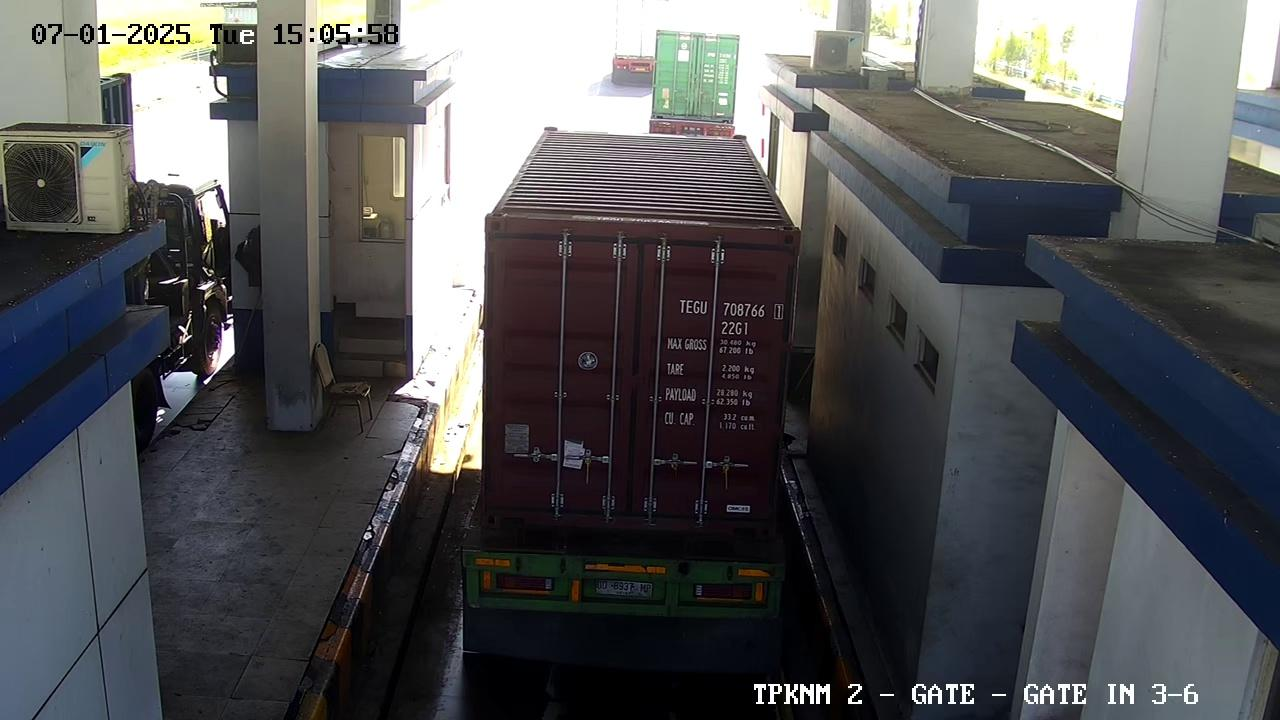Container_ID: (676, 294, 788, 325)
plate_number: (581, 572, 664, 605)
